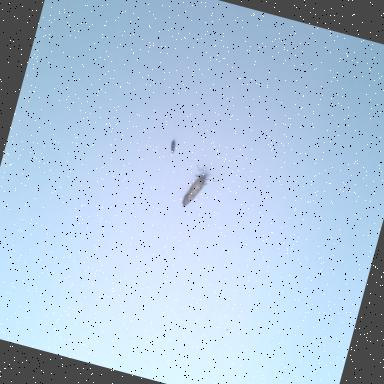pbw: (177, 165, 214, 222)
